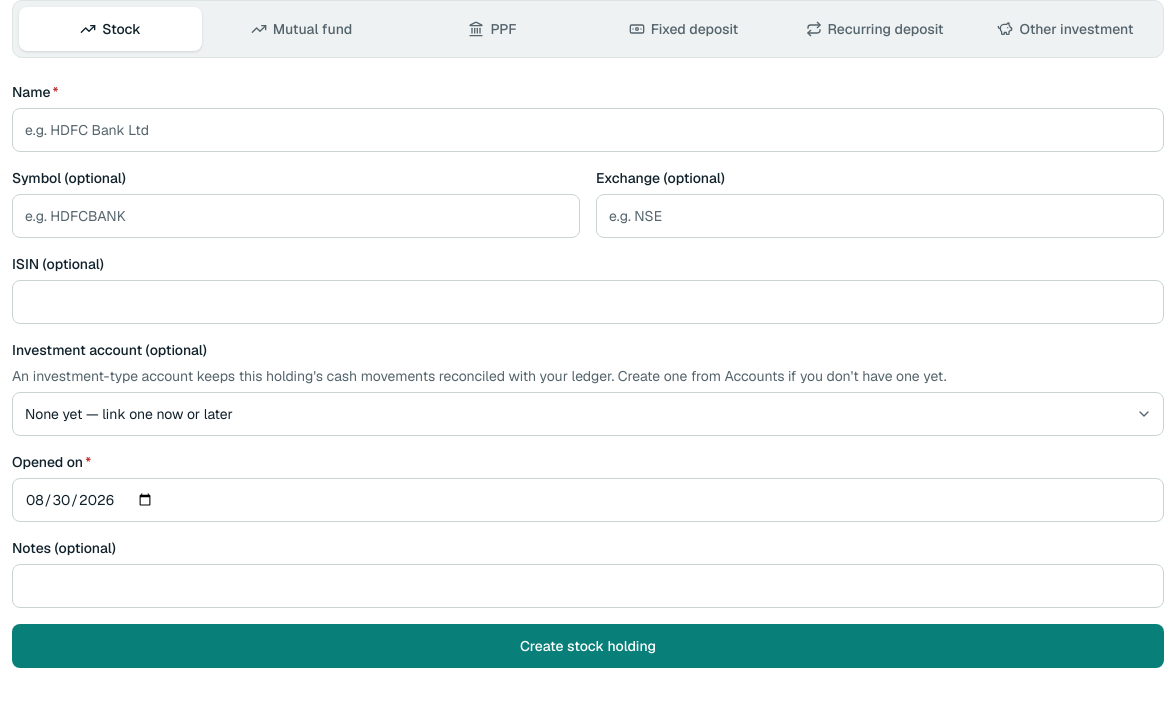
Test: NewInvestmentForm › switches to the PPF form, showing an opening-contribution fieldset
The image size is (1176, 713).
Click the radio button labelled "PPF". click: (492, 29)
box: [401, 7, 584, 51]
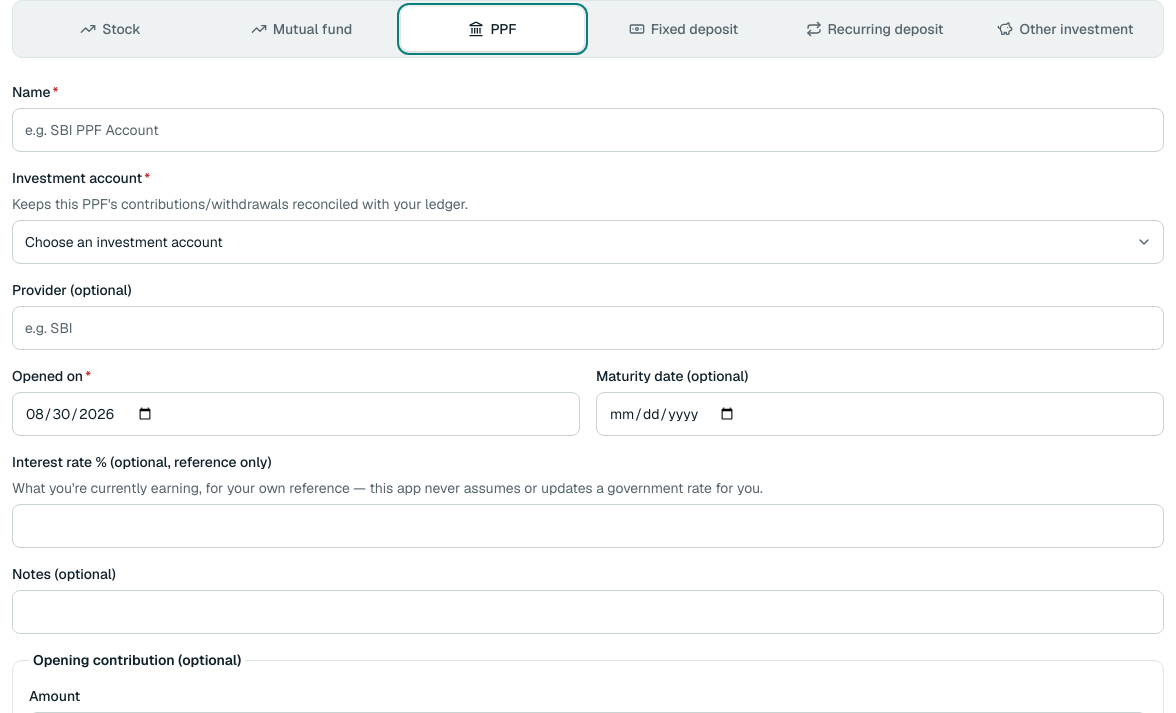
expect the text "Opening contribution (optional)" is shown: met, box [29, 650, 245, 670]
expect the dropdown labelled "Investment account" is shown: met, box [12, 220, 1164, 264]
